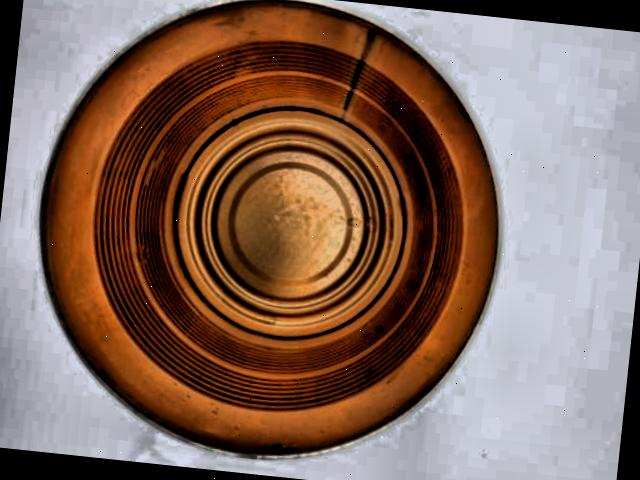Almennt: (7, 0, 576, 480)
